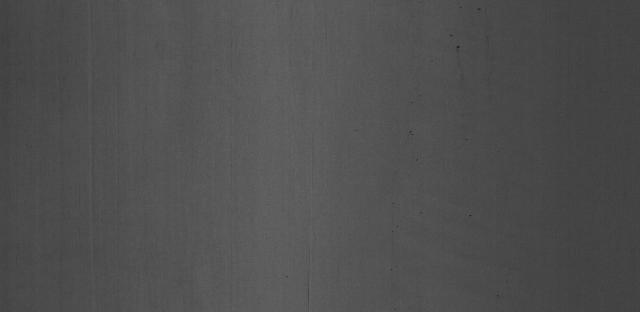inclusion: (450, 42, 466, 53)
